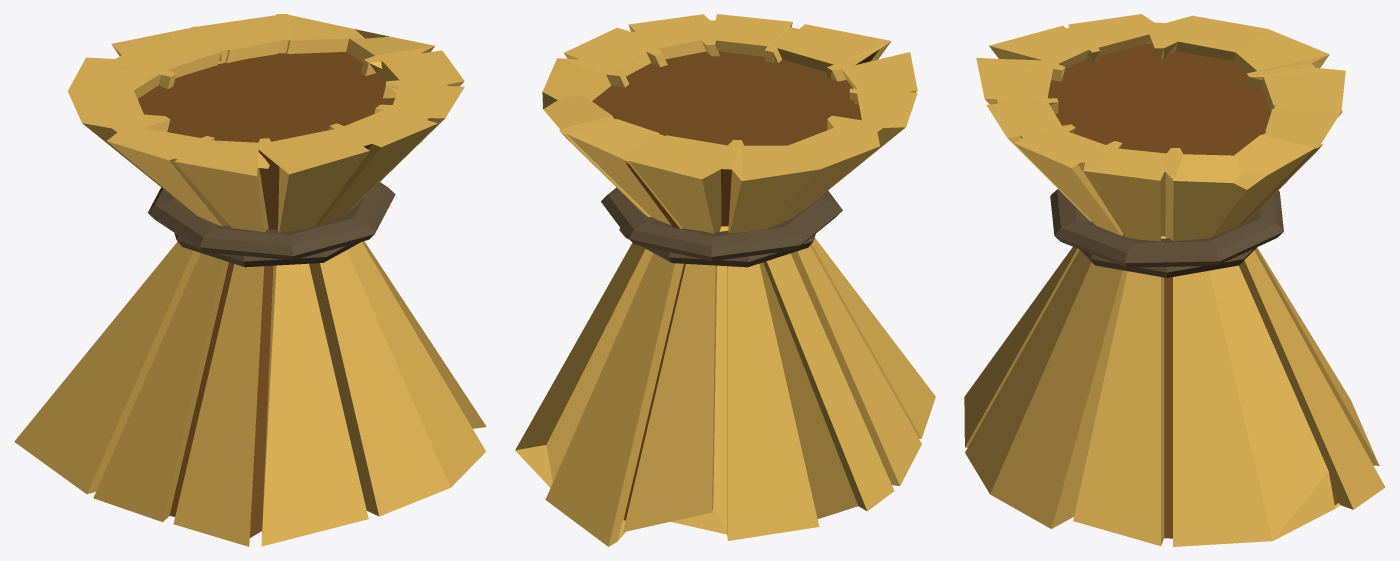
Rendered from Sino_1.fbx.
The picture shows the model from 3 angles, left to right: view 1: azimuth 30°, elevation 25°; view 2: azimuth 150°, elevation 25°; view 3: azimuth 270°, elevation 25°; orthographic projection. The views are drawn at different scales.
Parts seen in each view (by area): view 1: Cylinder.009, Torus.002, Torus.001; view 2: Cylinder.009, Torus.002, Torus.001; view 3: Cylinder.009, Torus.002, Torus.001.
Boxes of the visible parts, <box> form: Cylinder.009: <box>14,14,486,546</box>; Torus.002: <box>148,182,395,260</box>; Torus.001: <box>174,233,360,267</box>; Cylinder.009: <box>515,14,935,546</box>; Torus.002: <box>601,187,842,261</box>; Torus.001: <box>619,228,815,267</box>; Cylinder.009: <box>964,14,1385,546</box>; Torus.002: <box>1050,189,1283,267</box>; Torus.001: <box>1079,247,1256,277</box>.
Size of the model in its own units: 194 by 189 by 186.
